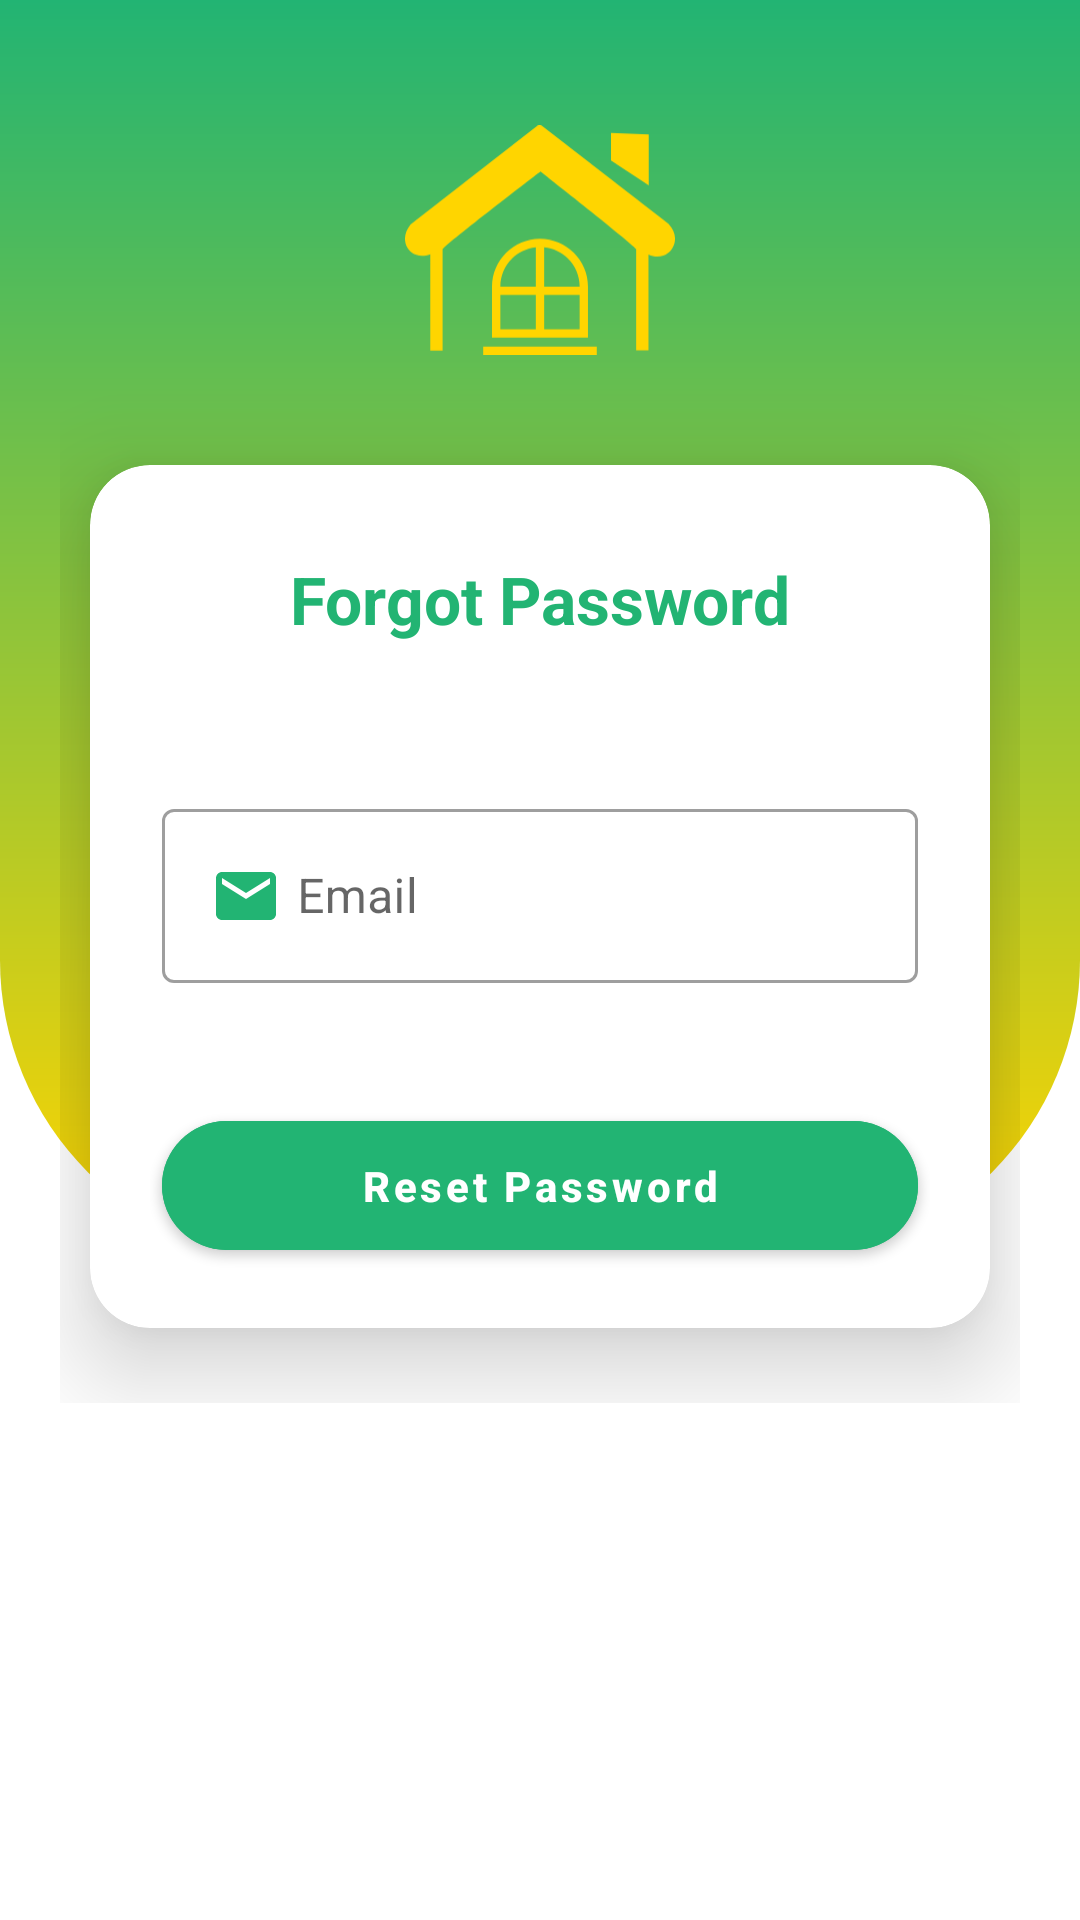

Where to tap for icons on this 1080w x 1920h app screen, as [x,y]:
house window: [540,240]
